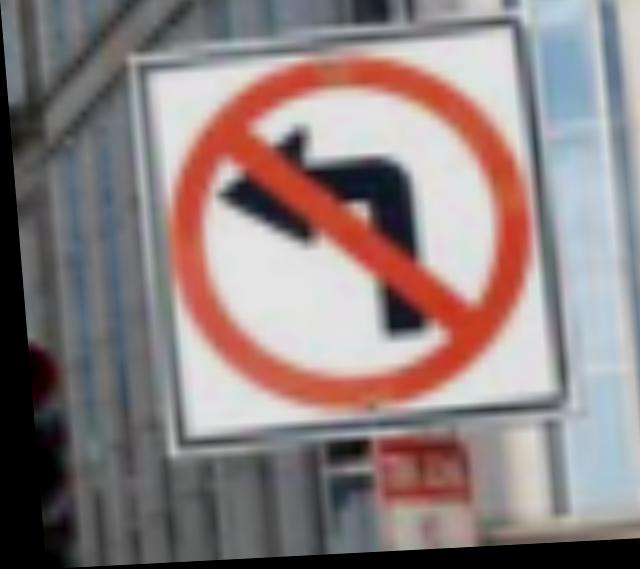not_turn_left: (141, 30, 549, 417)
